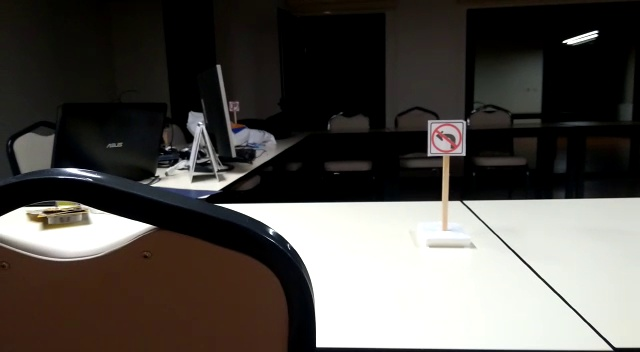sola_donulmez: (425, 116, 468, 160)
